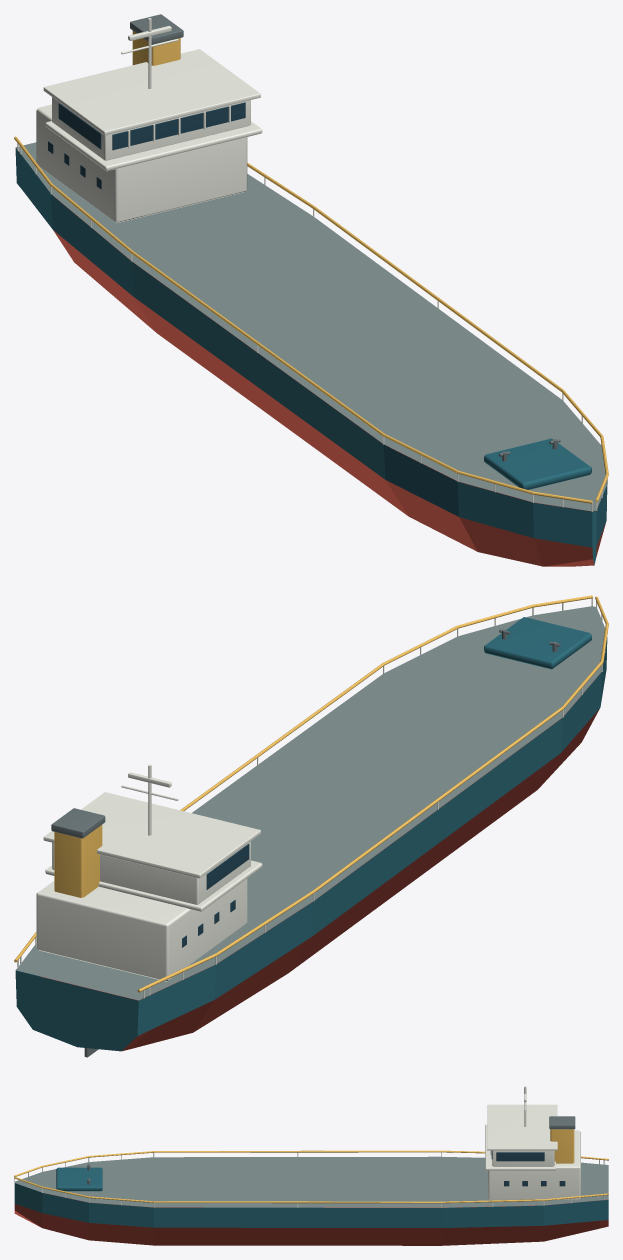
The model's file is starter_container_01.glb.
3 renders of one model, top to bottom at view 1: azimuth 30°, elevation 25°; view 2: azimuth 150°, elevation 25°; view 3: azimuth 270°, elevation 25°, orthographic. The views are drawn at different scales.
Parts seen in each view (by area): view 1: MESH_deck, MESH_hull, MESH_superstructure, Bridge_roof, Forecastle, Bridge_house, Bridge_deck, Bridge_front_windows, Bulwark_top.004, Bulwark_top.011, Funnel, Funnel_cap (+1 smaller); view 2: MESH_deck, MESH_hull, MESH_superstructure, Bridge_roof, Bridge_house, Forecastle, Funnel, Bridge_deck, Bulwark_top.004, Funnel_cap, Bulwark_top.011, Bridge_side_windows.001; view 3: MESH_hull, MESH_deck, Bridge_roof, MESH_superstructure, Forecastle, Funnel, Bulwark_top.011, Bulwark_top.004, Bridge_house, Bridge_deck, Bridge_side_windows, Funnel_cap (+1 smaller).
Part boxes in pixels (left/top/right/bottom): MESH_deck: left=16, top=142, right=606, bottom=511; MESH_hull: left=15, top=148, right=607, bottom=566; MESH_superstructure: left=36, top=104, right=247, bottom=222; Bridge_roof: left=43, top=49, right=260, bottom=135; Forecastle: left=484, top=438, right=591, bottom=489; Bridge_house: left=52, top=97, right=250, bottom=160; Bridge_deck: left=45, top=121, right=262, bottom=171; Bridge_front_windows: left=112, top=102, right=245, bottom=150; Bulwark_top.004: left=130, top=250, right=383, bottom=435; Bulwark_top.011: left=312, top=206, right=562, bottom=391; Funnel: left=132, top=31, right=180, bottom=65; Funnel_cap: left=130, top=14, right=183, bottom=44; MESH_deck: left=16, top=606, right=604, bottom=1000; MESH_hull: left=15, top=637, right=607, bottom=1051; MESH_superstructure: left=36, top=878, right=247, bottom=981; Bridge_roof: left=43, top=792, right=260, bottom=878; Bridge_house: left=52, top=841, right=250, bottom=904; Forecastle: left=484, top=617, right=591, bottom=669; Funnel: left=54, top=825, right=102, bottom=897; Bridge_deck: left=45, top=860, right=262, bottom=911; Bulwark_top.004: left=313, top=706, right=564, bottom=892; Funnel_cap: left=51, top=808, right=105, bottom=838; Bulwark_top.011: left=180, top=663, right=384, bottom=811; Bridge_side_windows.001: left=206, top=844, right=249, bottom=889; MESH_hull: left=14, top=1183, right=608, bottom=1245; MESH_deck: left=15, top=1156, right=608, bottom=1207; Bridge_roof: left=487, top=1104, right=557, bottom=1150; MESH_superstructure: left=488, top=1130, right=580, bottom=1199; Forecastle: left=56, top=1167, right=102, bottom=1191; Funnel: left=550, top=1129, right=574, bottom=1163; Bulwark_top.011: left=154, top=1201, right=441, bottom=1203; Bulwark_top.004: left=154, top=1150, right=441, bottom=1152; Bridge_house: left=492, top=1150, right=554, bottom=1166; Bridge_deck: left=485, top=1124, right=555, bottom=1170; Bridge_side_windows: left=496, top=1152, right=544, bottom=1161; Funnel_cap: left=549, top=1116, right=575, bottom=1129.
Bounding box in the file's own units: 13.2 × 17.2 × 64.08.
